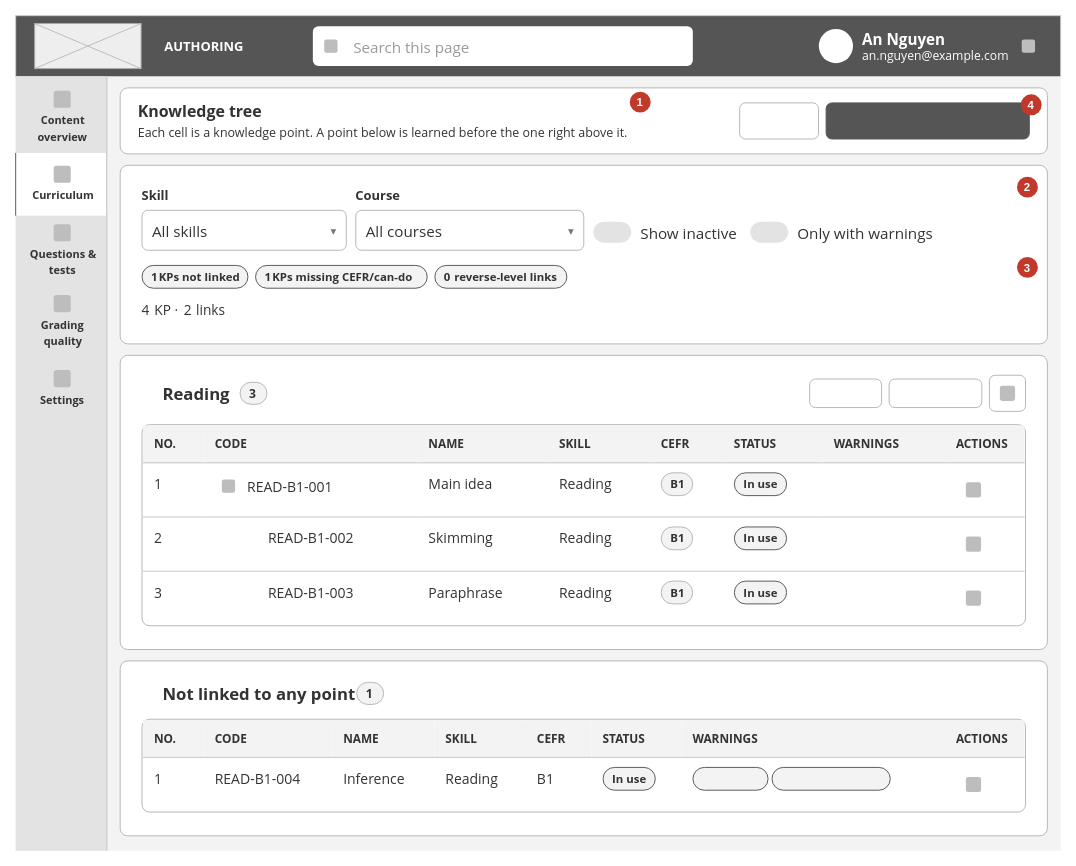
Some shapes in this 1076 by 866 pixel diagram are drawn without their labels. Each missing label, with the box of its shape:
AN: (818, 28, 853, 63)
Collapse all: (888, 378, 982, 408)
Create knowledge point: (825, 102, 1029, 139)
Missing metadata: (771, 766, 890, 790)
Not linked: (692, 766, 768, 790)
Open all: (809, 378, 882, 408)
Reload: (739, 102, 819, 139)
